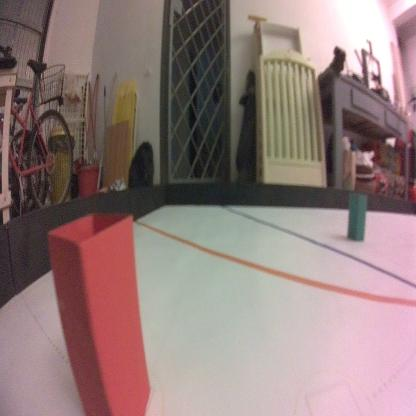green: (347, 190, 368, 242)
red: (45, 210, 151, 416)
